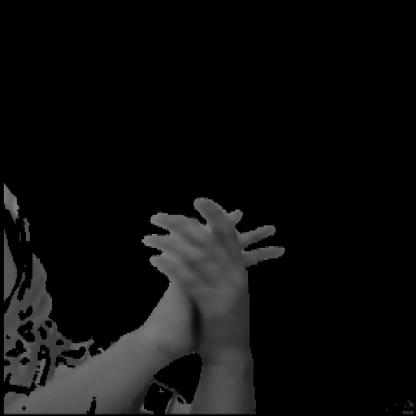clap: (99, 185, 300, 371)
